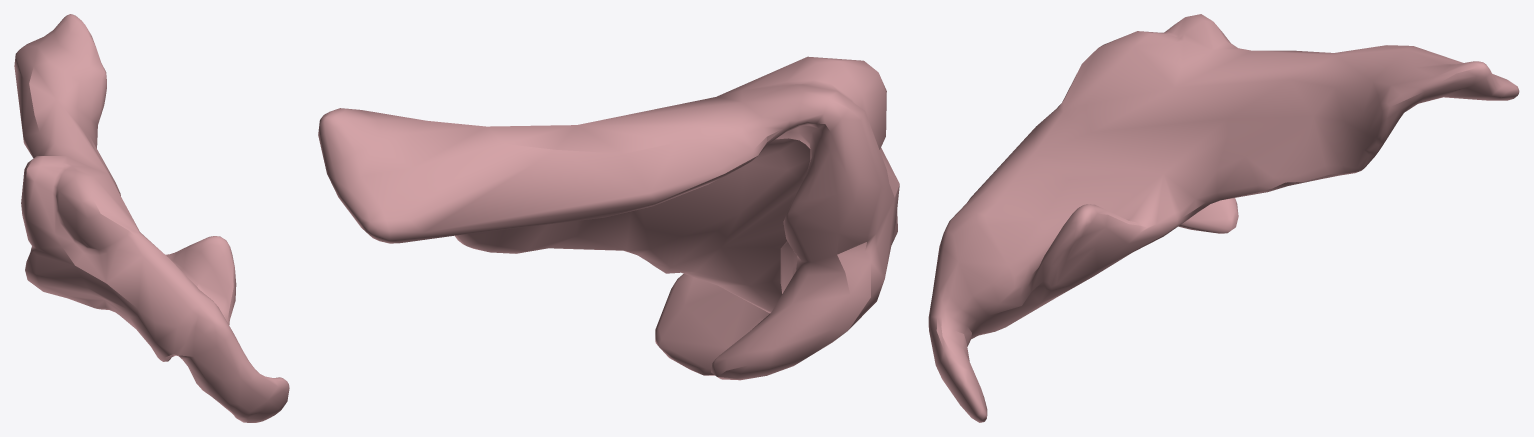
The model's file is fma72800_fj1838.glb.
The picture shows the model from 3 angles, left to right: view 1: azimuth 30°, elevation 25°; view 2: azimuth 150°, elevation 25°; view 3: azimuth 270°, elevation 25°; orthographic projection. The views are drawn at different scales.
Visible parts, largest first — view 1: FMA72800_FJ1838; view 2: FMA72800_FJ1838; view 3: FMA72800_FJ1838.
Boxes of the visible parts, x1=… form: FMA72800_FJ1838: x1=14, y1=14, x2=289, y2=422; FMA72800_FJ1838: x1=318, y1=56, x2=899, y2=380; FMA72800_FJ1838: x1=928, y1=14, x2=1519, y2=422.
Bounding box in the file's own units: 0.0356 × 0.049 × 0.0739.
